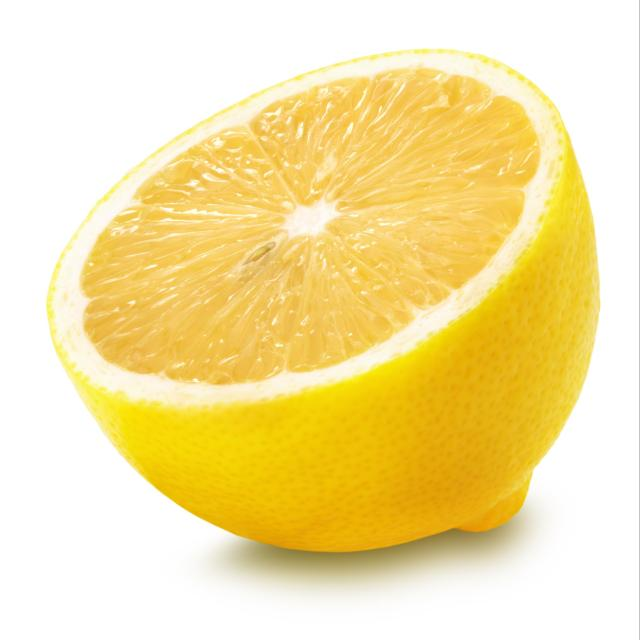lemon: (38, 41, 607, 569)
